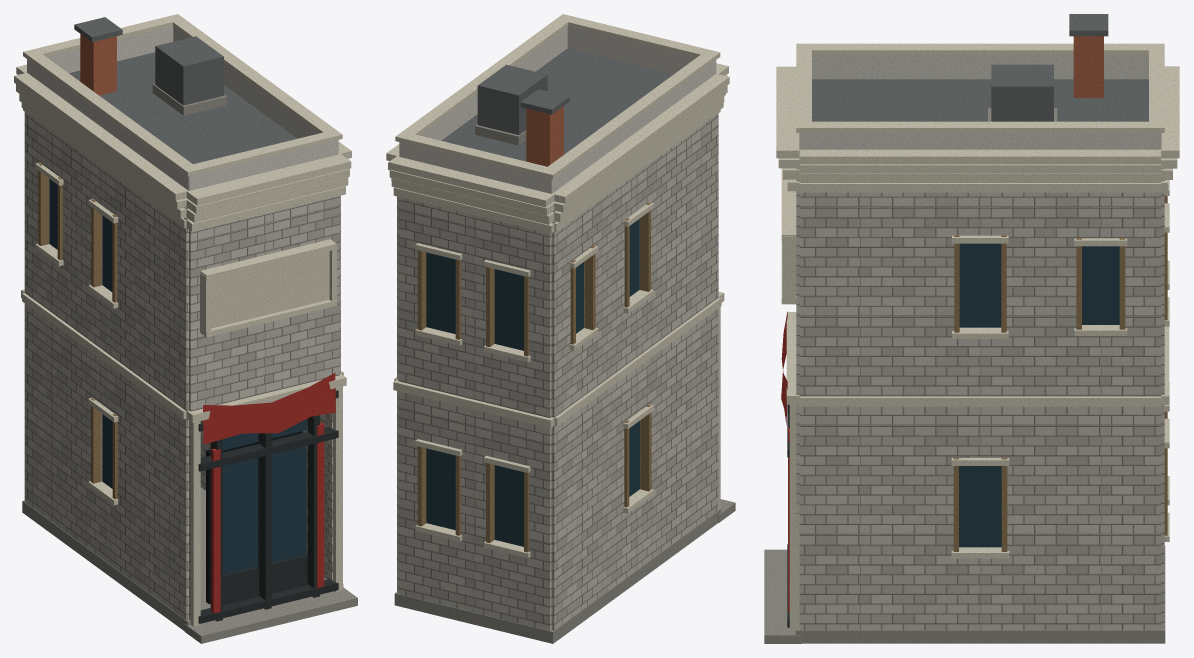
Rendered from BUSS4_lod2.glb.
The picture shows the model from 3 angles, left to right: view 1: azimuth 30°, elevation 25°; view 2: azimuth 150°, elevation 25°; view 3: azimuth 270°, elevation 25°; orthographic projection. The views are drawn at different scales.
Visible parts, largest first — view 1: BUSS4_LOD2; view 2: BUSS4_LOD2; view 3: BUSS4_LOD2.
Boxes of the visible parts, left/top/right/bottom form: BUSS4_LOD2: left=14, top=14, right=357, bottom=643; BUSS4_LOD2: left=386, top=14, right=735, bottom=643; BUSS4_LOD2: left=764, top=14, right=1179, bottom=643.
Size of the model in its own units: 3.78 by 10.25 by 6.9.
Materials: 11 (9 with a texture image).
